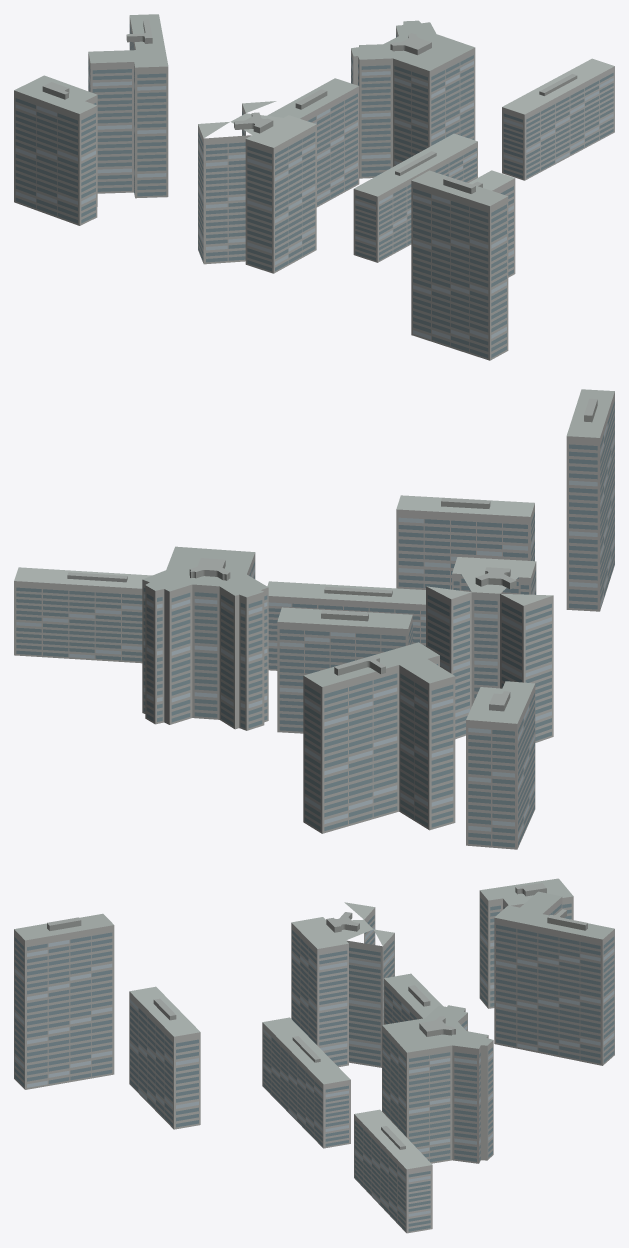
The model's file is apt-a13592601.glb.
3 renders of one model, top to bottom at view 1: azimuth 30°, elevation 25°; view 2: azimuth 150°, elevation 25°; view 3: azimuth 270°, elevation 25°, orthographic. The views are drawn at different scales.
Parts seen in each view (by area): view 1: apt-a13592601; view 2: apt-a13592601; view 3: apt-a13592601.
Boxes of the visible parts, bbox=[...] form: apt-a13592601: bbox=[14, 14, 614, 360]; apt-a13592601: bbox=[14, 389, 614, 849]; apt-a13592601: bbox=[14, 878, 614, 1233].
Bounding box in the file's own units: 229 × 67 × 235.
